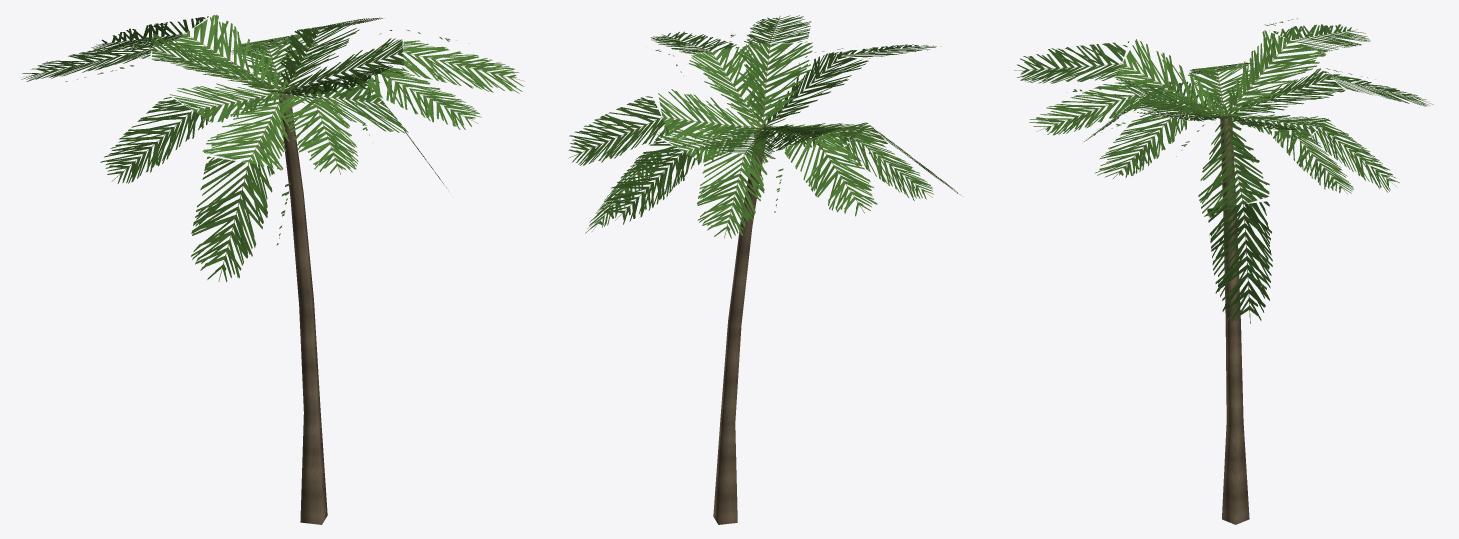
The model's file is mid.glb.
3 views of the same model, side by side, from view 1: azimuth 30°, elevation 25°; view 2: azimuth 150°, elevation 25°; view 3: azimuth 270°, elevation 25° (orthographic). The views are drawn at different scales.
Visible parts, largest first — view 1: palm_01; view 2: palm_01; view 3: palm_01.
Boxes of the visible parts, bbox=[...] form: palm_01: bbox=[21, 14, 524, 524]; palm_01: bbox=[568, 15, 960, 524]; palm_01: bbox=[1014, 18, 1432, 524].
Bounding box in the file's own units: 11.01 × 12.48 × 11.47.
2 materials, 2 textured.
